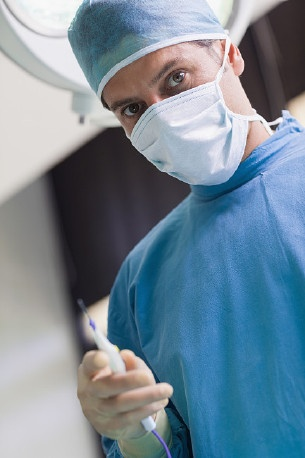Mask: (115, 57, 249, 191)
